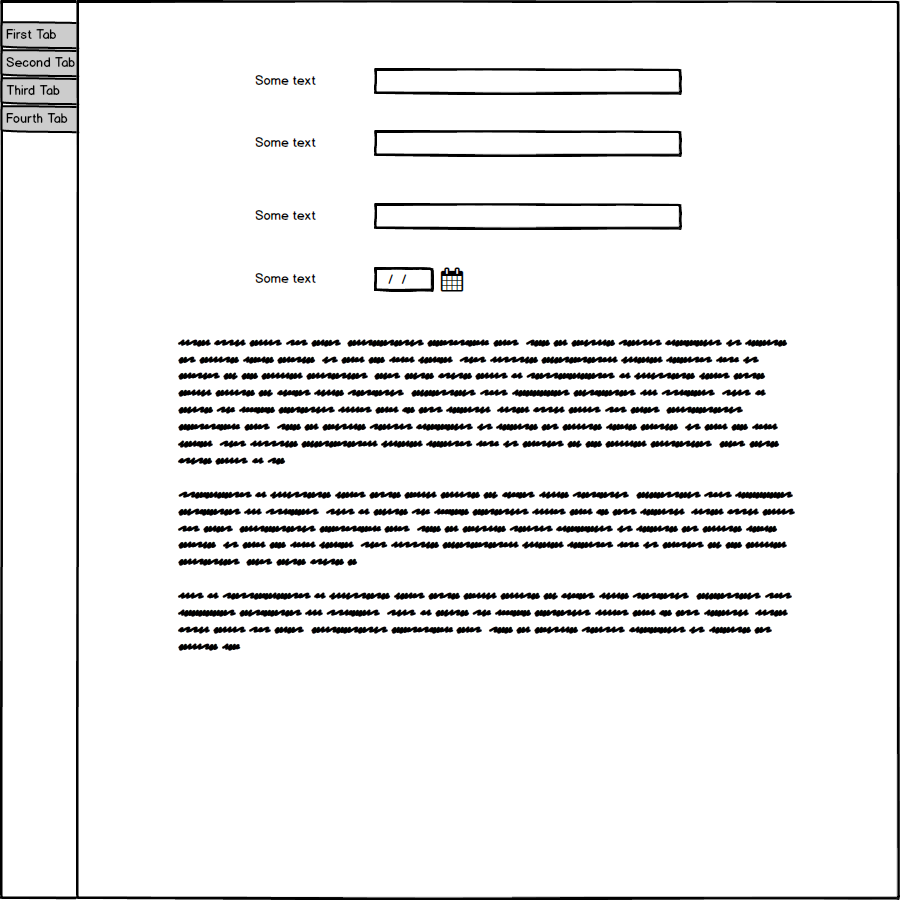date_picker: (367, 260, 478, 301)
input: (371, 55, 694, 107), (368, 197, 685, 237), (371, 125, 687, 164)
label: (242, 64, 323, 97), (252, 264, 326, 293), (249, 130, 323, 155), (246, 203, 320, 226)
p: (168, 330, 811, 658)
sidebar: (4, 15, 87, 141)
